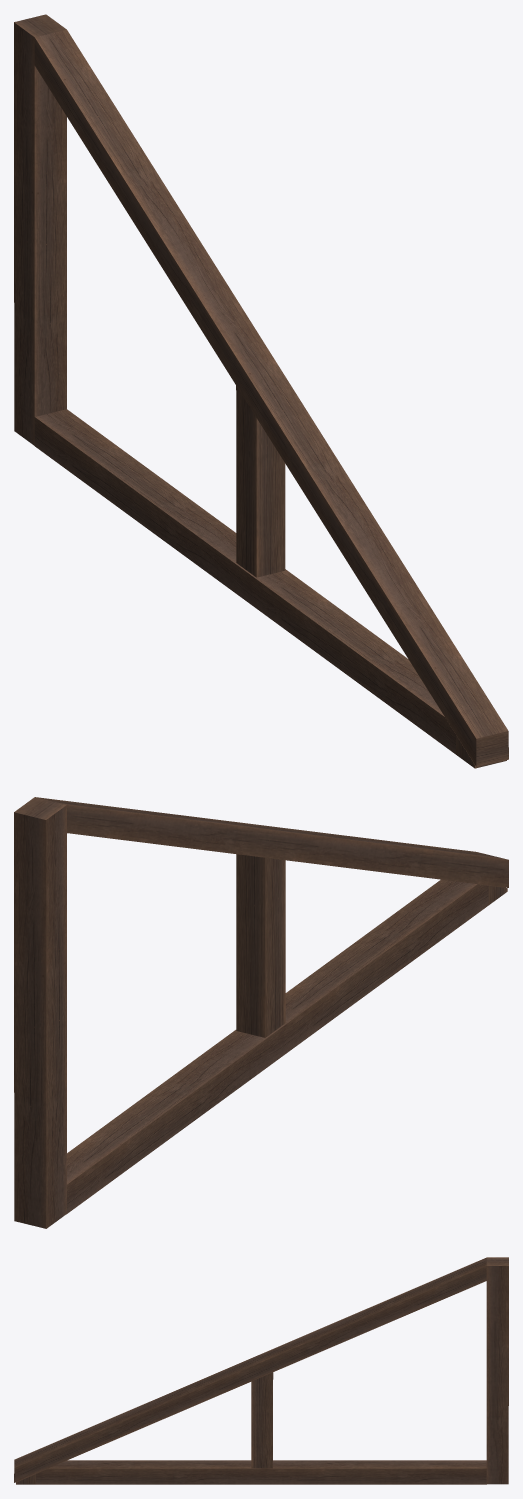
The model's file is yane_frame_2t_1f_2.fbx.
3 views of the same model, one above another, from view 1: azimuth 30°, elevation 25°; view 2: azimuth 150°, elevation 25°; view 3: azimuth 270°, elevation 25° (orthographic). The views are drawn at different scales.
Parts seen in each view (by area): view 1: yane_frame_2t_1f_2; view 2: yane_frame_2t_1f_2; view 3: yane_frame_2t_1f_2.
Part boxes in pixels (x1,y1,x2,y2): yane_frame_2t_1f_2: (14, 14, 508, 768); yane_frame_2t_1f_2: (14, 797, 508, 1228); yane_frame_2t_1f_2: (14, 1257, 508, 1484).
Bounding box in the file's own units: 18.5 × 225 × 461.
